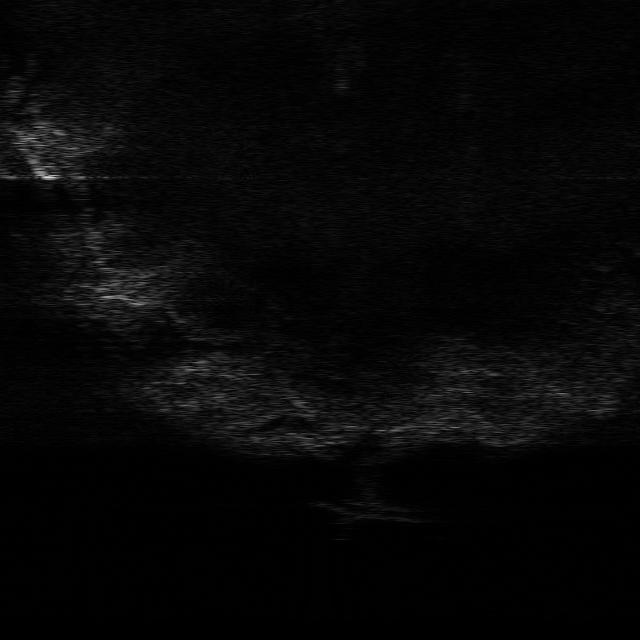plane: (311, 499, 420, 524)
